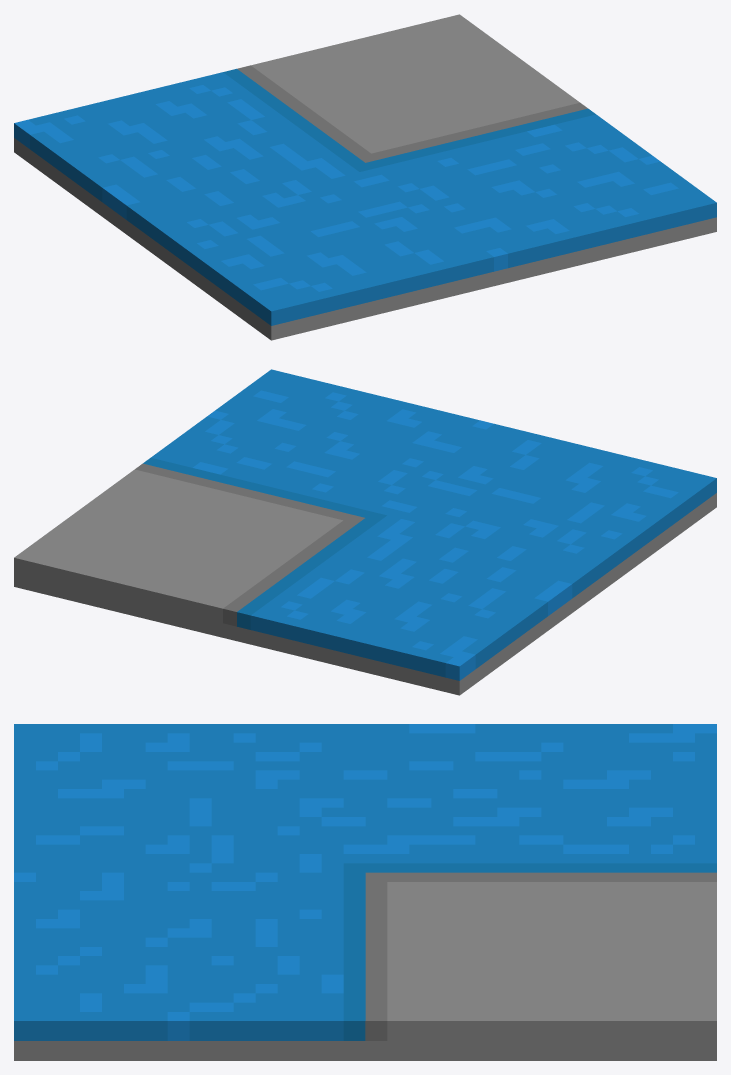
Rendered from city-water-edgy-edge-outer-4.gltf.
The picture shows the model from 3 angles, top to bottom: view 1: azimuth 30°, elevation 25°; view 2: azimuth 150°, elevation 25°; view 3: azimuth 270°, elevation 25°; orthographic projection. The views are drawn at different scales.
Parts seen in each view (by area): view 1: city-water-edgy-edge-outer-4; view 2: city-water-edgy-edge-outer-4; view 3: city-water-edgy-edge-outer-4.
Boxes of the visible parts, x1=… form: city-water-edgy-edge-outer-4: x1=14, y1=14, x2=716, y2=340; city-water-edgy-edge-outer-4: x1=14, y1=369, x2=716, y2=695; city-water-edgy-edge-outer-4: x1=14, y1=724, x2=716, y2=1060.
Bounding box in the file's own units: 3.2 × 0.2 × 3.2.
1 material, 1 textured.
